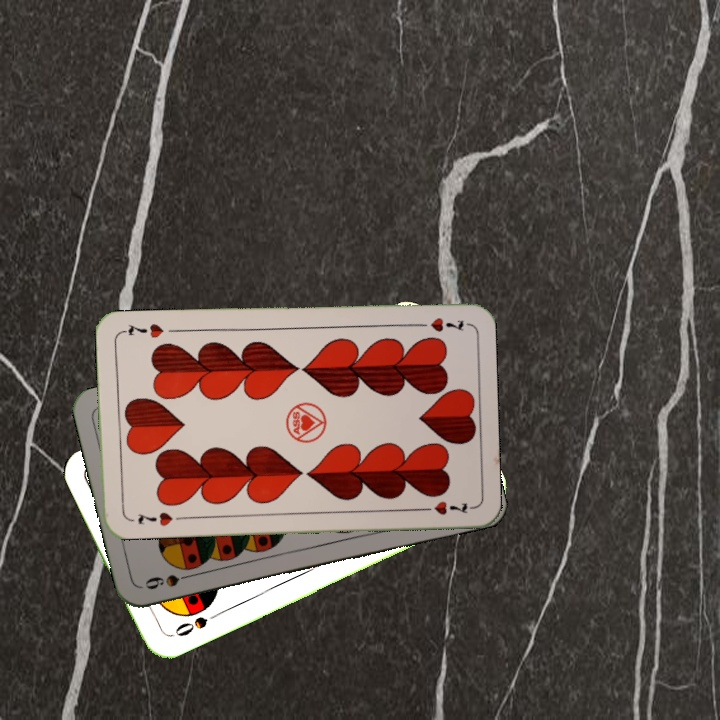H7: (410, 313, 466, 334), (134, 508, 175, 529)
S9: (141, 569, 199, 592)
SO: (170, 612, 210, 639)
